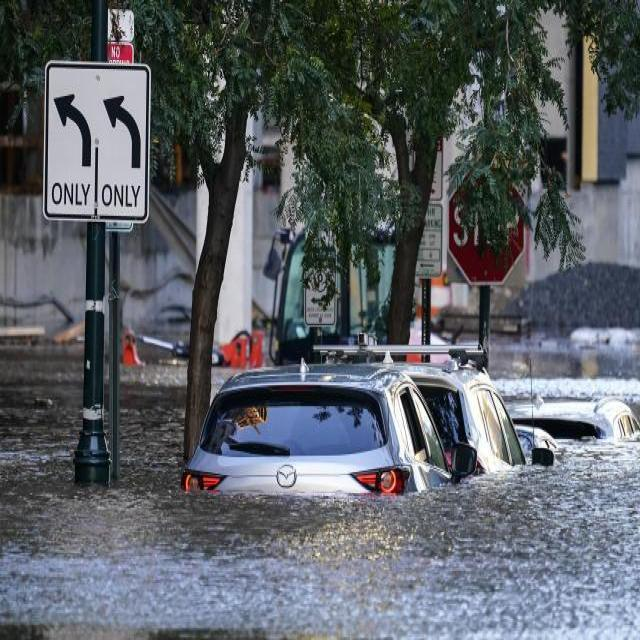water: (0, 345, 638, 635), (489, 339, 634, 394)
